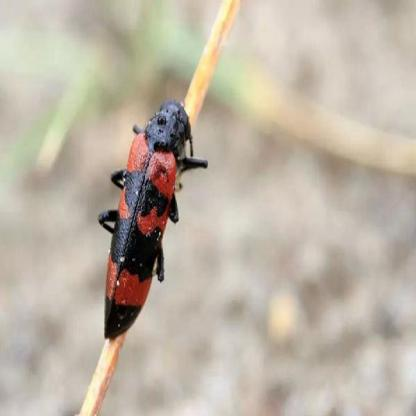beetle: (100, 96, 187, 345)
